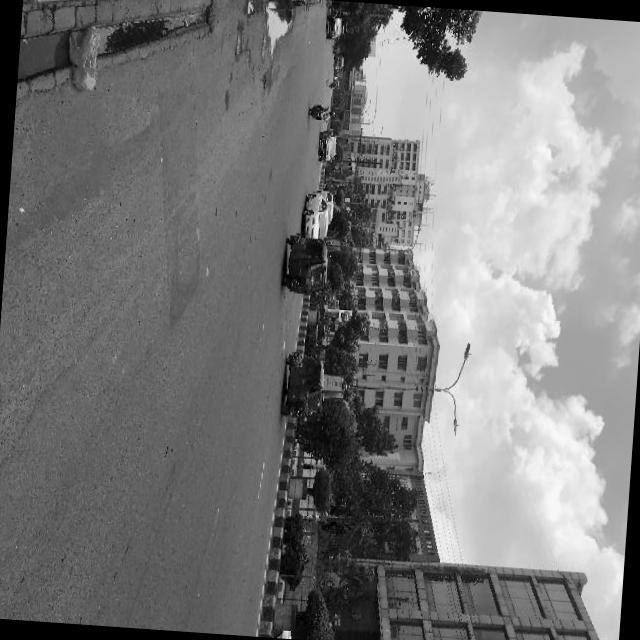bus: (332, 56, 343, 68)
car: (300, 191, 330, 243), (312, 190, 335, 226), (317, 130, 337, 166), (326, 14, 348, 41)
motorcycle: (280, 352, 328, 421), (280, 234, 328, 299), (308, 105, 336, 125)
